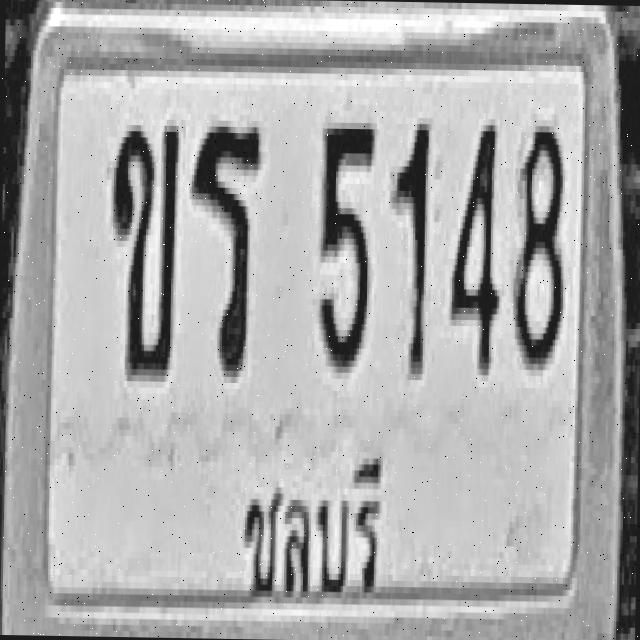1: (390, 117, 430, 380)
11KhorKhai: (108, 122, 178, 378)
4: (448, 118, 502, 375)
44RorRuea: (188, 120, 260, 377)
5: (316, 116, 374, 373)
8: (512, 116, 566, 367)
Chonburi: (236, 446, 386, 608)
